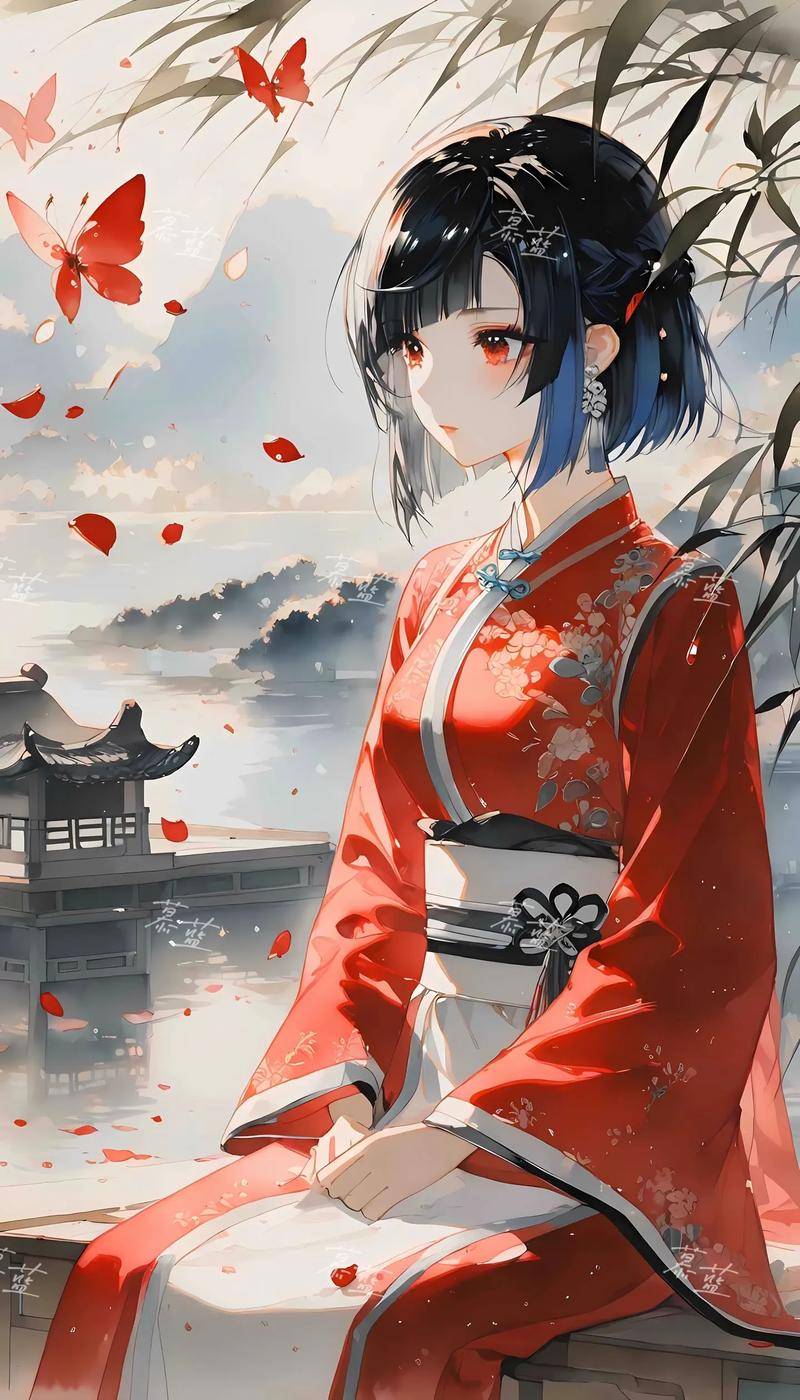夜兰: (30, 108, 781, 1398)
